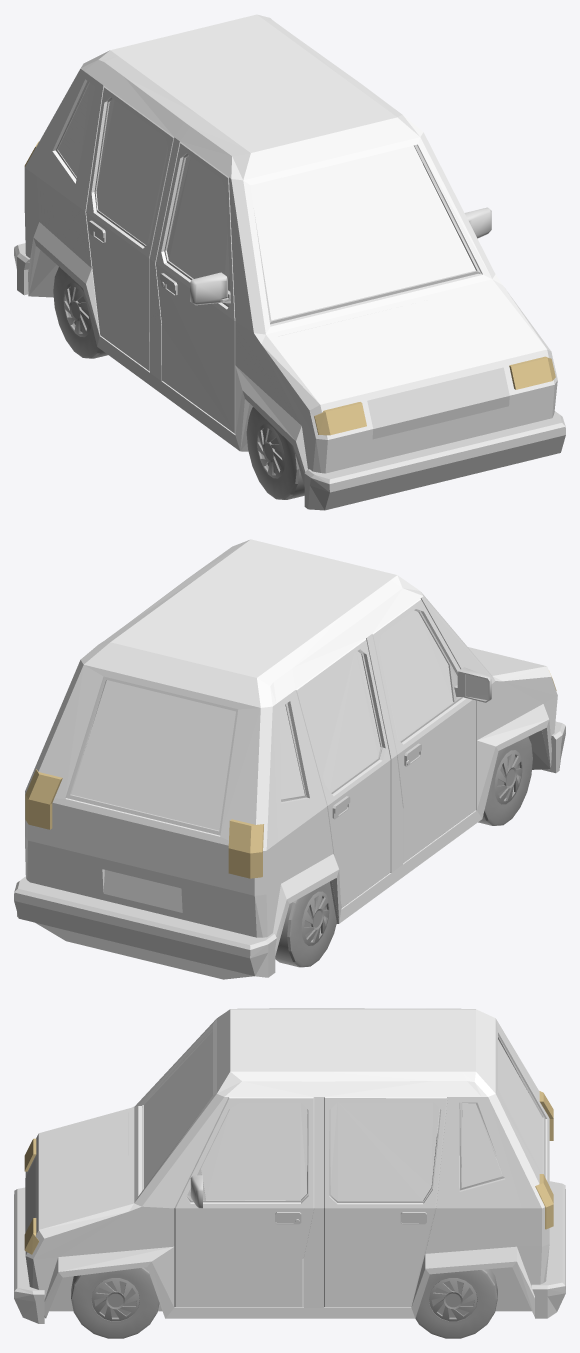
File: car3.glb
The picture shows the model from 3 angles, top to bottom: view 1: azimuth 30°, elevation 25°; view 2: azimuth 150°, elevation 25°; view 3: azimuth 270°, elevation 25°; orthographic projection. The views are drawn at different scales.
Visible parts, largest first — view 1: Car; view 2: Car; view 3: Car.
Boxes of the visible parts, x1,y1,x2,y2 form: Car: [14, 14, 565, 510]; Car: [14, 539, 565, 979]; Car: [14, 1008, 565, 1338].
Size of the model in its own units: 5.14 by 4.67 by 9.39.
